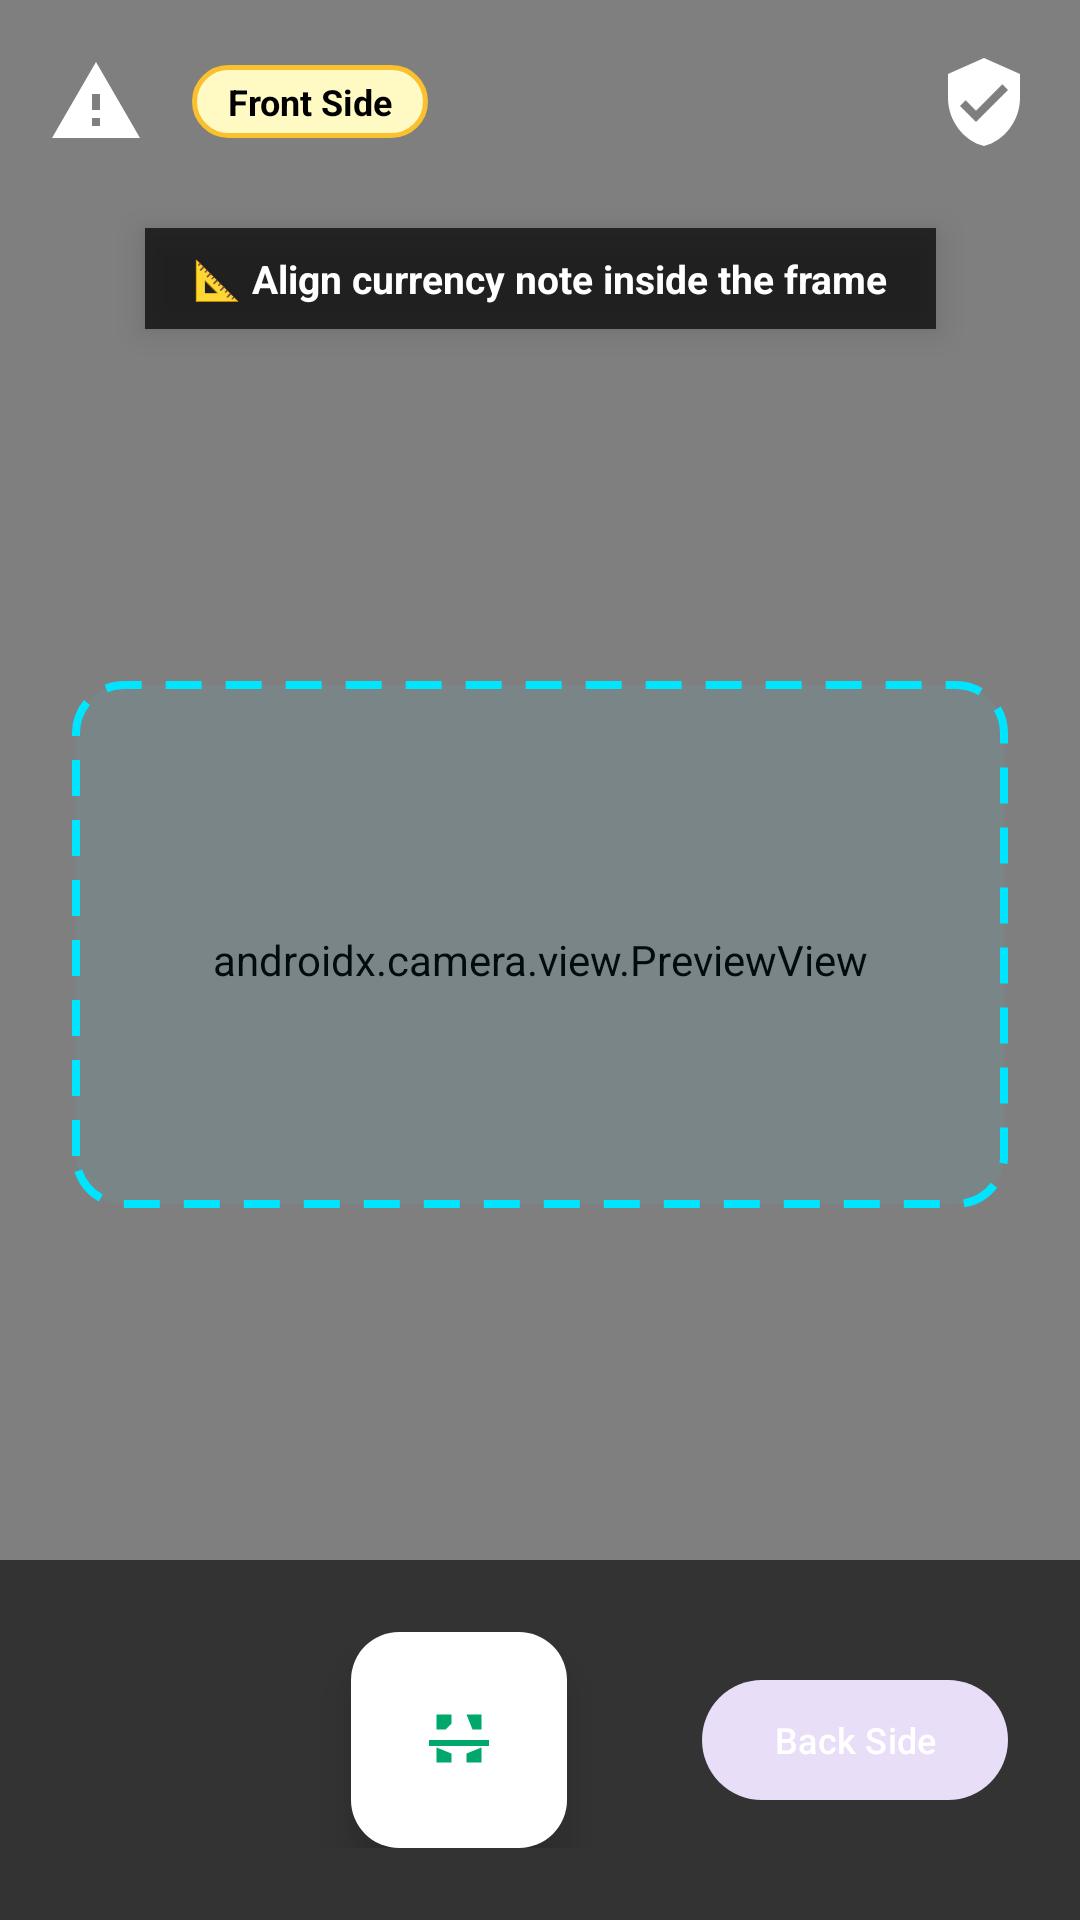

Named icons in this screenshot (1080x1920) and their bounding boxes, (x1, y1, x2, y2):
doubt: (52, 62, 140, 138)
security: (948, 58, 1020, 146)
